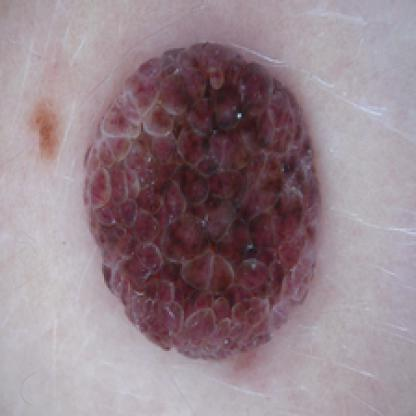benign: (76, 48, 331, 362)
